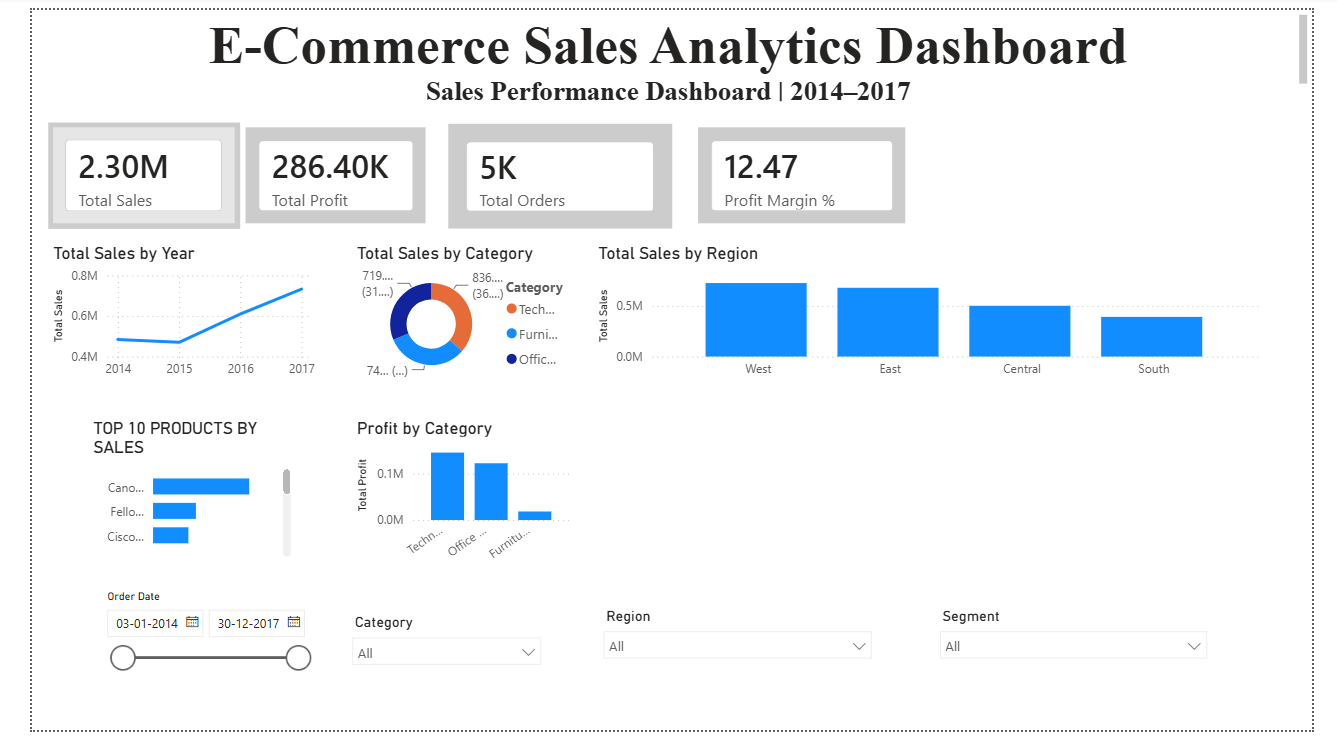

Layout of this report page (visuals, bound fields, positions):
{"tool":"powerbi","page":{"name":"Page 1","canvas":[1280,720],"ordinal":0},"visuals":[{"type":"textbox","box":[0,288,264,120],"z":0},{"type":"textbox","box":[0,576,312,96],"z":1000},{"type":"textbox","box":[0,0,1280,96],"z":2000},{"type":"cardVisual","fields":{"Data":["Cleaned_Superstore.Total Sales"]},"box":[15.9,112.5,192,106.4],"z":3000},{"type":"cardVisual","fields":{"Data":["Cleaned_Superstore.Total Profit"]},"box":[209.1,112.5,190.8,106.4],"z":4000},{"type":"cardVisual","fields":{"Data":["Cleaned_Superstore.Total Orders"]},"box":[415.8,113.7,223.8,105.2],"z":5000},{"type":"lineChart","fields":{"Category":["Cleaned_Superstore.Order Date.Variation.Date Hierarchy.Year","Cleaned_Superstore.Order Date.Variation.Date Hierarchy.Quarter","Cleaned_Superstore.Order Date.Variation.Date Hierarchy.Month","Cleaned_Superstore.Order Date.Variation.Date Hierarchy.Day"],"Y":["Cleaned_Superstore.Total Sales"]},"box":[15.9,232.3,271.5,144.3],"z":6000},{"type":"donutChart","fields":{"Category":["Cleaned_Superstore.Category"],"Y":["Cleaned_Superstore.Total Sales"]},"box":[320.4,232.3,223.8,144.3],"z":7000},{"type":"clusteredColumnChart","fields":{"Y":["Cleaned_Superstore.Total Sales"],"Category":["Cleaned_Superstore.Region"]},"box":[561.3,232.3,671.3,144.3],"z":8000},{"type":"cardVisual","fields":{"Data":["Cleaned_Superstore.Profit Margin %"]},"box":[661.6,112.5,217.7,106.4],"z":9000},{"type":"clusteredBarChart","title":"TOP 10 PRODUCTS BY SALES","fields":{"Category":["Cleaned_Superstore.Product Name"],"Y":["Cleaned_Superstore.Total Sales"]},"box":[56.3,407.2,207.9,144.3],"z":10000},{"type":"slicer","fields":{"Values":["Cleaned_Superstore.Order Date"]},"box":[62.4,574.7,225,145.5],"z":11000},{"type":"slicer","fields":{"Values":["Cleaned_Superstore.Category"]},"box":[310.6,599.2,209.1,96.6],"z":12000},{"type":"slicer","fields":{"Values":["Cleaned_Superstore.Region"]},"box":[561.2,592.5,288.8,102.5],"z":13000},{"type":"slicer","fields":{"Values":["Cleaned_Superstore.Segment"]},"box":[897.5,592.5,287.5,97.5],"z":14000},{"type":"clusteredColumnChart","title":"Profit by Category","fields":{"Category":["Cleaned_Superstore.Category"],"Y":["Cleaned_Superstore.Total Profit"]},"box":[320,407.5,223.8,153.8],"z":14001}]}

Visuals, with their boxes in screenshot pixels (x1, y1, x2, y2), scaled from the page's 1280x720 canvas onto the 1337x742 screenshot:
textbox: l=0, t=297, r=276, b=420
textbox: l=0, t=594, r=326, b=693
textbox: l=0, t=0, r=1336, b=99
cardVisual - Cleaned_Superstore.Total Sales: l=17, t=116, r=217, b=226
cardVisual - Cleaned_Superstore.Total Profit: l=218, t=116, r=418, b=226
cardVisual - Cleaned_Superstore.Total Orders: l=434, t=117, r=668, b=226
lineChart - Cleaned_Superstore.Order Date.Variation.Date Hierarchy.Year x Cleaned_Superstore.Order Date.Variation.Date Hierarchy.Quarter: l=17, t=239, r=300, b=388
donutChart - Cleaned_Superstore.Category x Cleaned_Superstore.Total Sales: l=335, t=239, r=568, b=388
clusteredColumnChart - Cleaned_Superstore.Total Sales x Cleaned_Superstore.Region: l=586, t=239, r=1287, b=388
cardVisual - Cleaned_Superstore.Profit Margin %: l=691, t=116, r=918, b=226
"TOP 10 PRODUCTS BY SALES" clusteredBarChart: l=59, t=420, r=276, b=568
slicer - Cleaned_Superstore.Order Date: l=65, t=592, r=300, b=741
slicer - Cleaned_Superstore.Category: l=324, t=618, r=543, b=717
slicer - Cleaned_Superstore.Region: l=586, t=611, r=888, b=716
slicer - Cleaned_Superstore.Segment: l=937, t=611, r=1238, b=711
"Profit by Category" clusteredColumnChart: l=334, t=420, r=568, b=578
